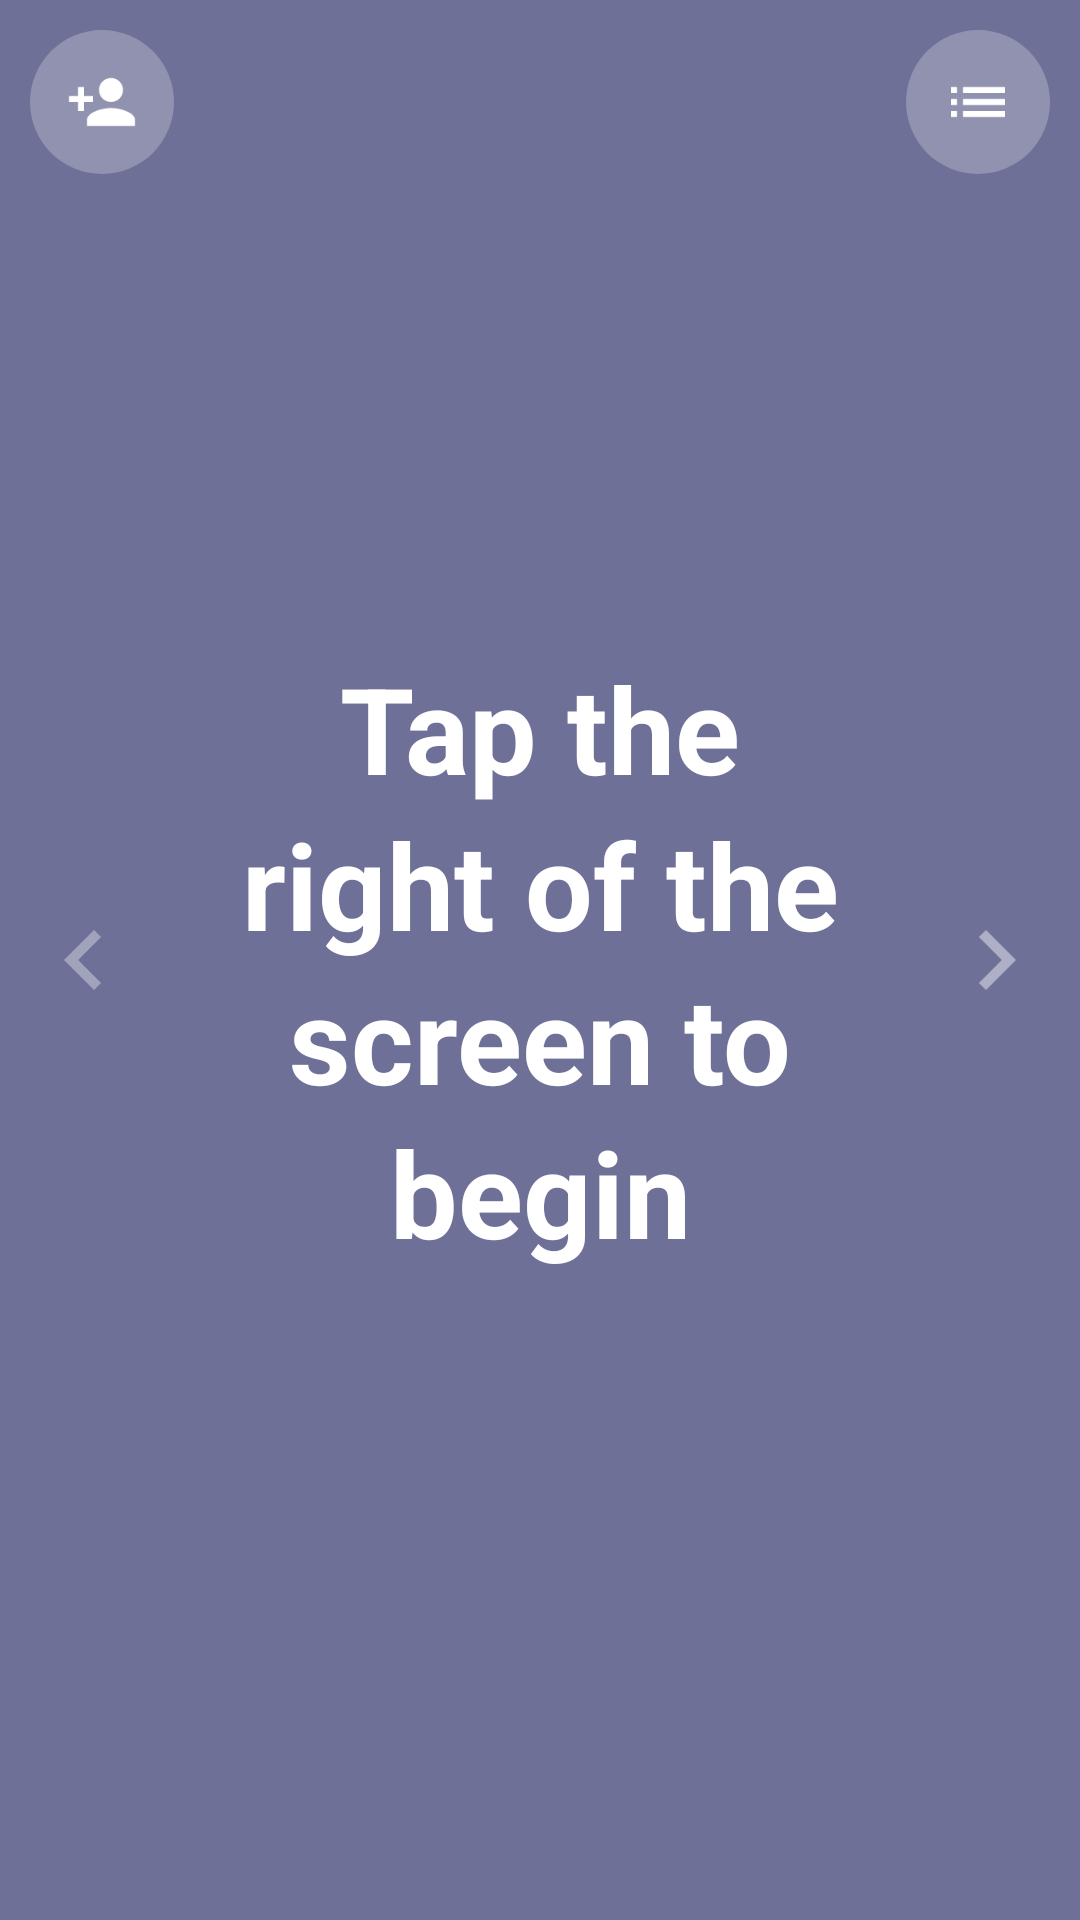

Locate icon controls on the screen. Image size 1080x1920, boxes as (x1, y1, x2, y2).
Manage players: (30, 30, 174, 174)
Next card: (979, 930, 1016, 990)
Previous card: (64, 930, 101, 990)
What's in play: (906, 30, 1050, 174)
